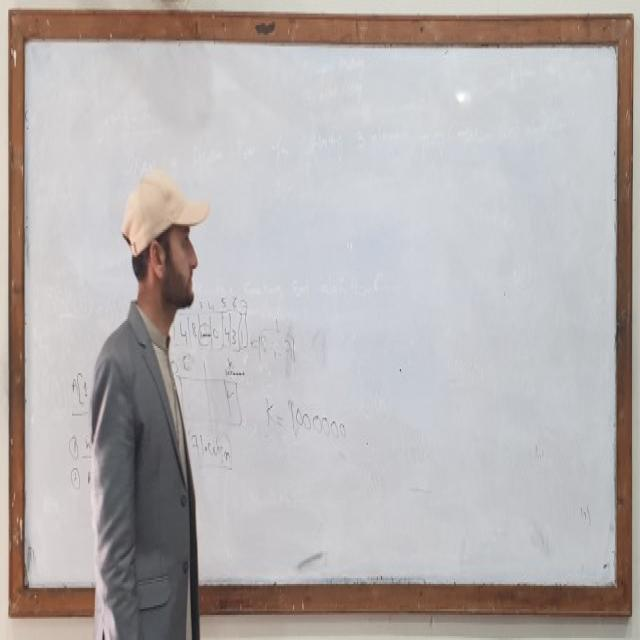Instructor: (94, 166, 207, 636)
White-board: (16, 14, 626, 606)
